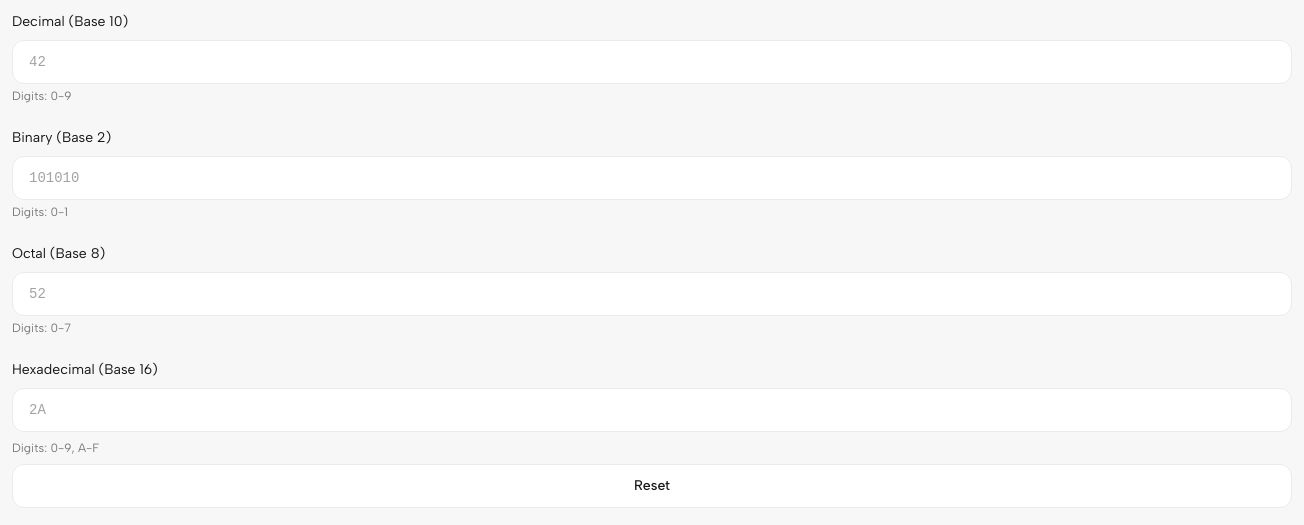
Test: NumberBaseTool › handles zero input correctly
In the field with placeholder "42": (652, 62) [12, 40, 1292, 84], type "0"
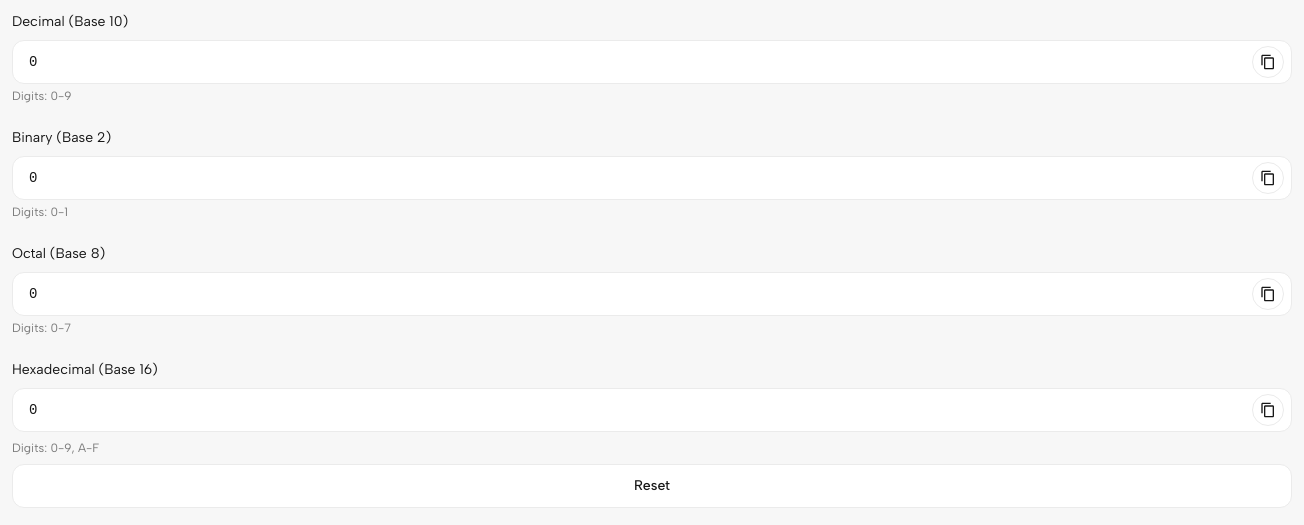
Expected: the field with placeholder "101010" below "Binary (Base 2)" holds "0", [12, 156, 1292, 200]
Expected: the field with placeholder "52" below "Octal (Base 8)" holds "0", [12, 272, 1292, 316]
Expected: the field with placeholder "2A" below "Hexadecimal (Base 16)" holds "0", [12, 388, 1292, 432]
